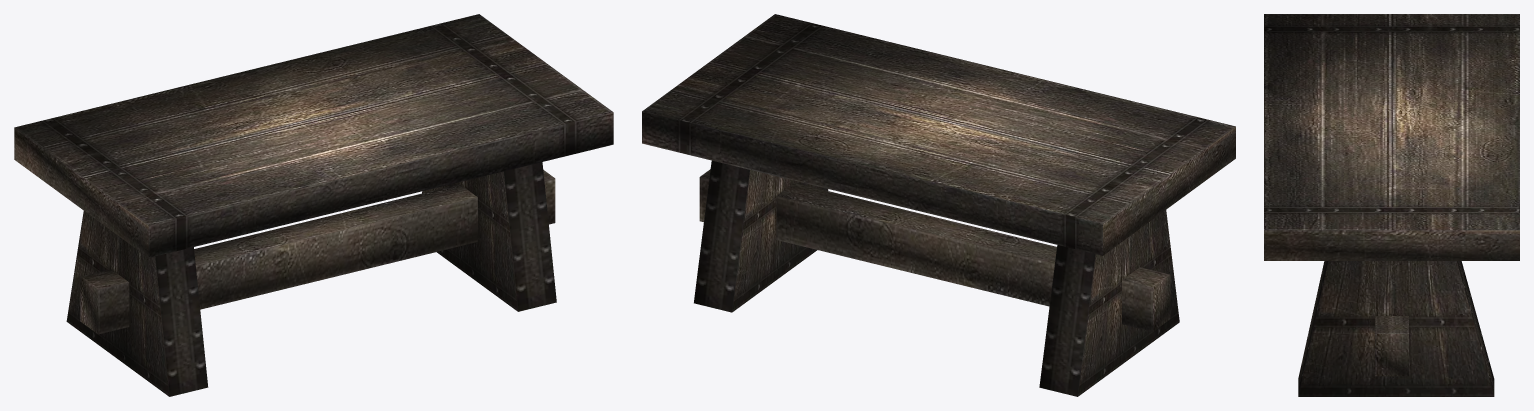
Rendered from OC_TABLE_V1.glb.
The picture shows the model from 3 angles, left to right: view 1: azimuth 30°, elevation 25°; view 2: azimuth 150°, elevation 25°; view 3: azimuth 270°, elevation 25°; orthographic projection. The views are drawn at different scales.
Visible parts, largest first — view 1: Mesh; view 2: Mesh; view 3: Mesh.
Boxes of the visible parts, left/top/right/bottom form: Mesh: left=14, top=14, right=613, bottom=396; Mesh: left=642, top=14, right=1235, bottom=396; Mesh: left=1264, top=14, right=1519, bottom=396.
Size of the model in its own units: 2.14 by 0.8542 by 1.07.
Materials: 1 (1 with a texture image).
